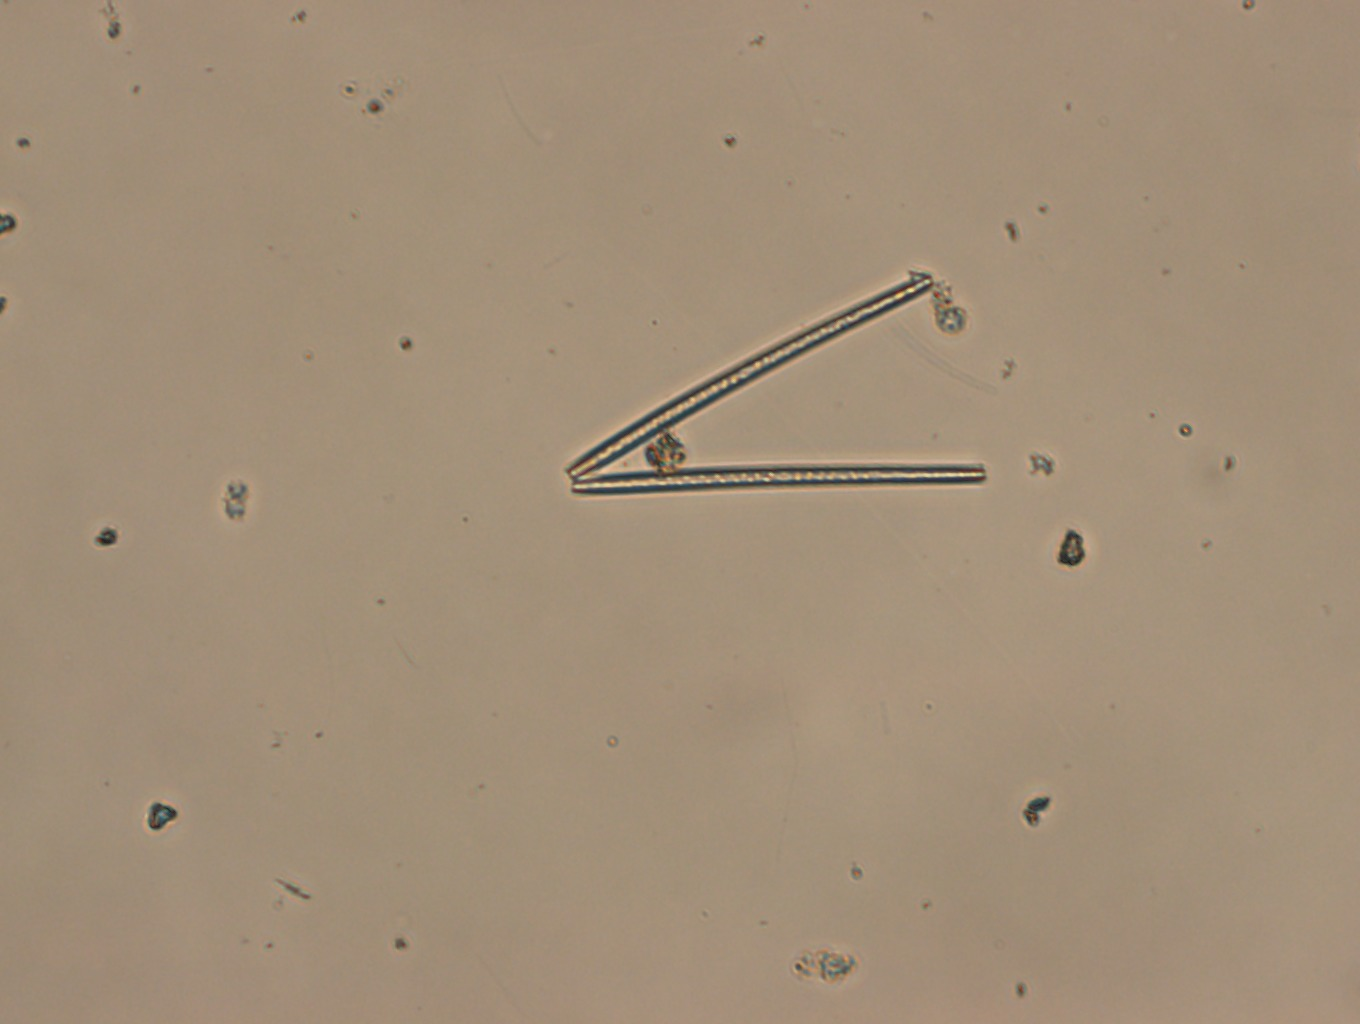thalassionema frauenfeldii: (552, 248, 993, 495)
